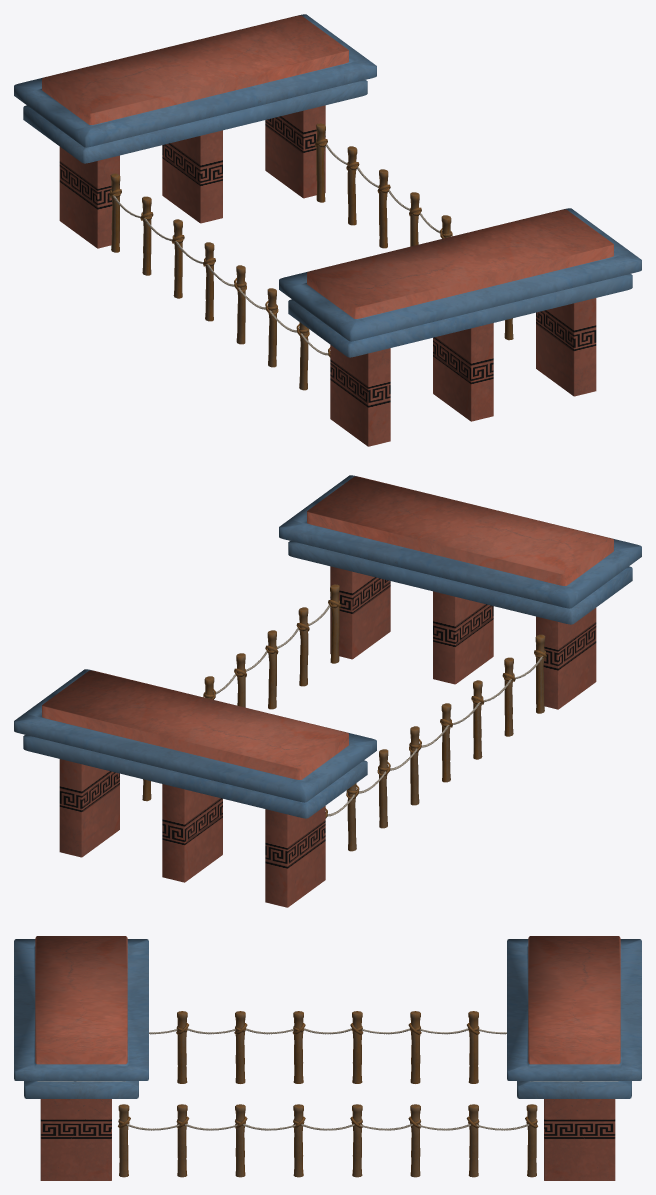
The model's file is EscuelaLigeros_1.fbx.
3 views of the same model, one above another, from view 1: azimuth 30°, elevation 25°; view 2: azimuth 150°, elevation 25°; view 3: azimuth 270°, elevation 25° (orthographic). The views are drawn at different scales.
Parts seen in each view (by area): view 1: Plane.085; view 2: Plane.085; view 3: Plane.085.
Part boxes in pixels (box(x1,y1,x2,y2)): Plane.085: box(14, 14, 641, 446); Plane.085: box(14, 475, 641, 907); Plane.085: box(14, 936, 641, 1180).
Bounding box in the file's own units: 469 × 221 × 938.
Materials: 1 (1 with a texture image).
